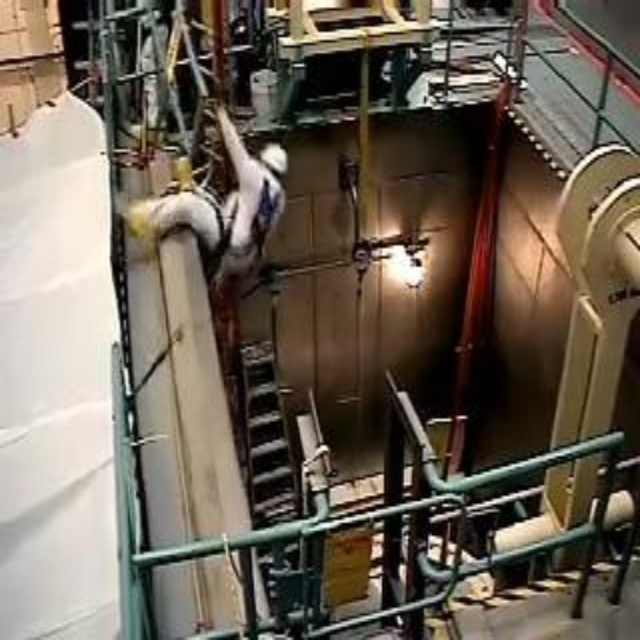Arnes_seguridad: (196, 170, 282, 280)
